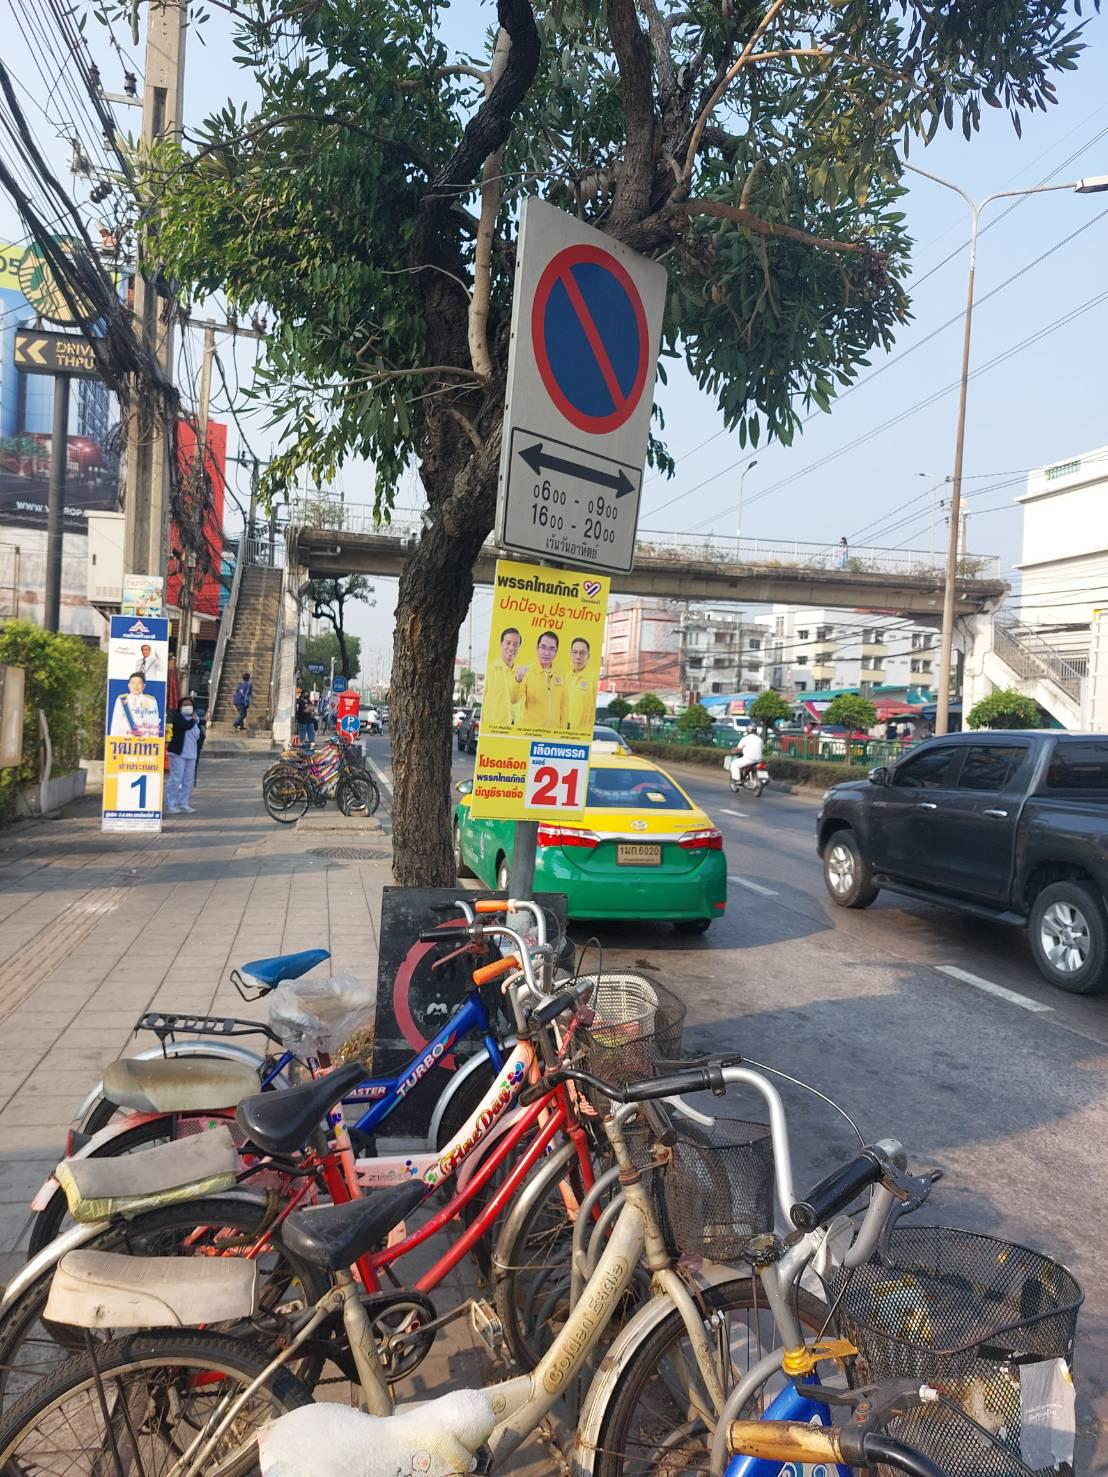Banner: (464, 558, 609, 832), (99, 615, 173, 825)
